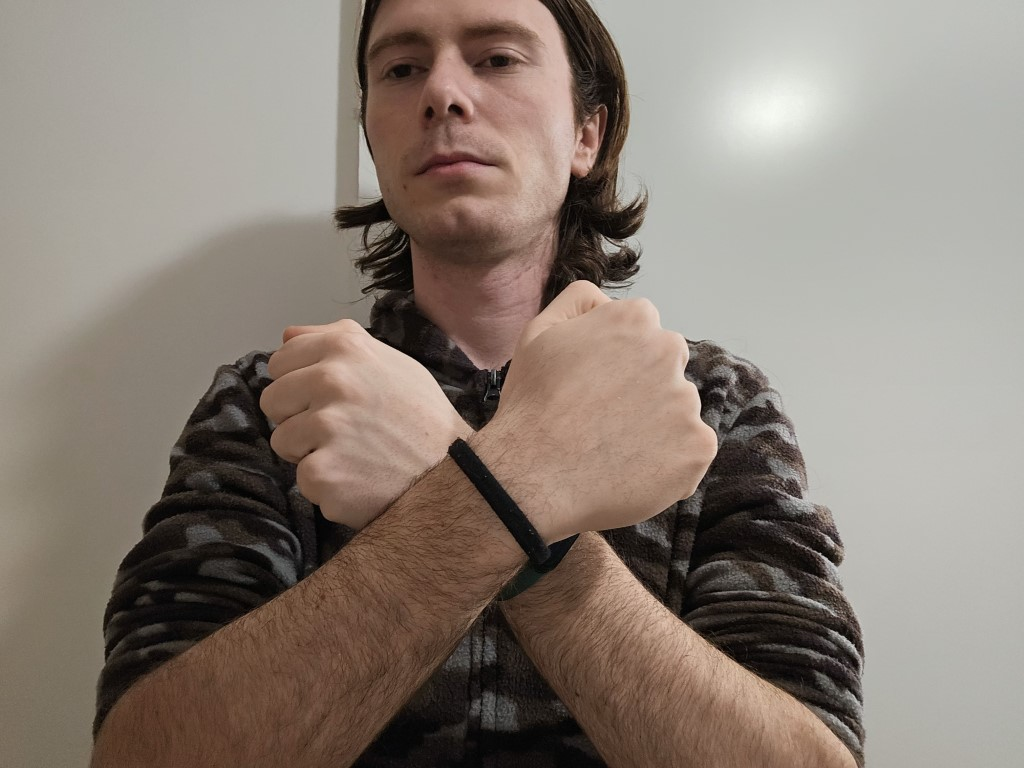del: (214, 254, 783, 653)
